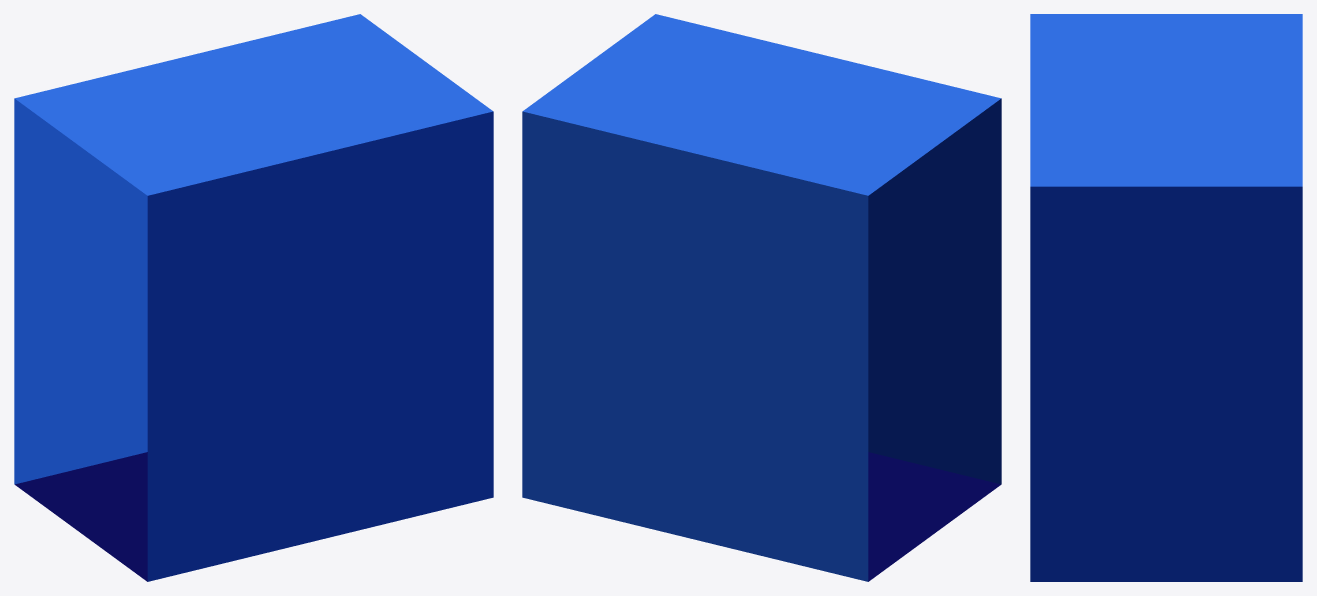
File: wall_end_left.glb
The picture shows the model from 3 angles, left to right: view 1: azimuth 30°, elevation 25°; view 2: azimuth 150°, elevation 25°; view 3: azimuth 270°, elevation 25°; orthographic projection. The views are drawn at different scales.
Parts seen in each view (by area): view 1: wall_end_left; view 2: wall_end_left; view 3: wall_end_left.
Part boxes in pixels (x1,y1,x2,y2): wall_end_left: [14, 14, 493, 581]; wall_end_left: [522, 14, 1001, 581]; wall_end_left: [1030, 14, 1302, 581].
Size of the model in its own units: 0.75 by 0.8 by 0.5.
